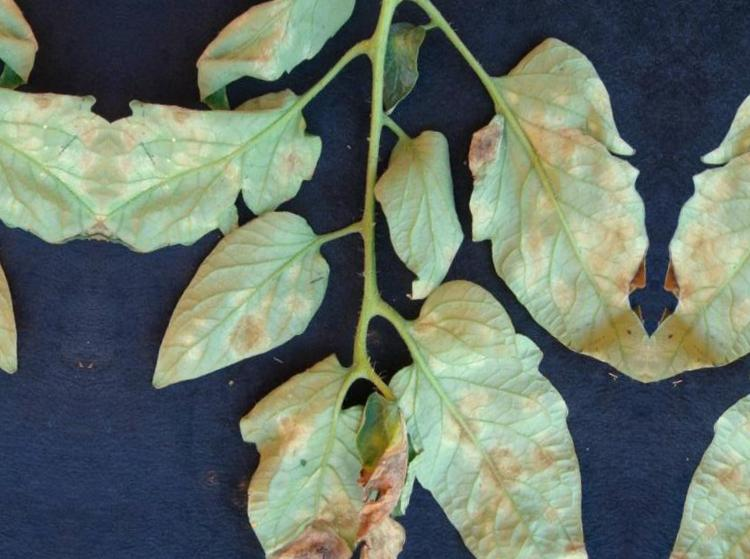Tomato mold leaf: (437, 2, 682, 414), (356, 259, 624, 559), (98, 66, 335, 271), (136, 191, 335, 406), (223, 347, 372, 559), (366, 110, 481, 297), (187, 0, 362, 111)
